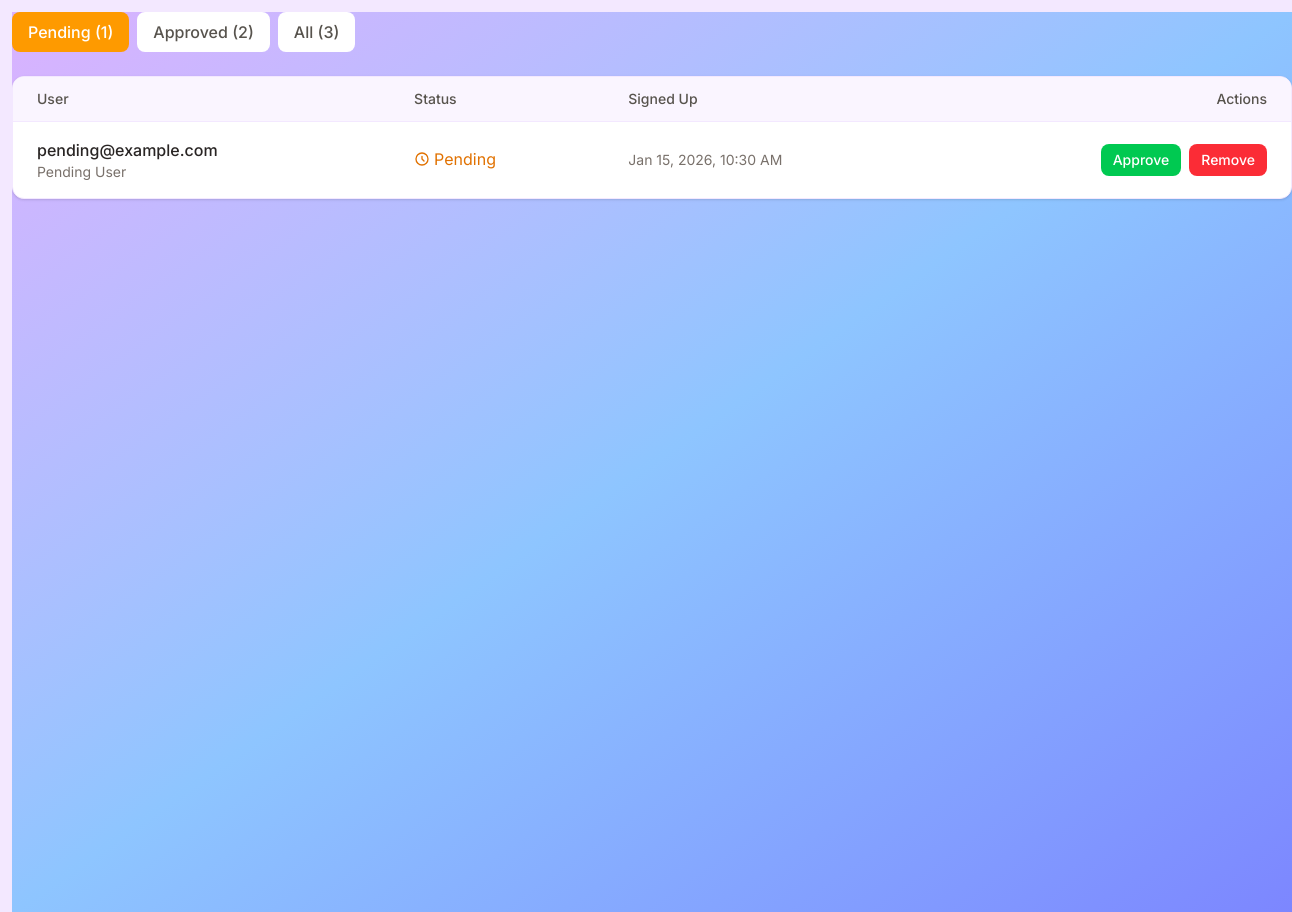
AdminUserList › rendering › renders admin badge for admin users
The width and height of the screenshot is (1292, 912).
// Switch to All tab to see admin
Click the button "All (3)": (317, 32) x1=278 y1=12 x2=355 y2=52
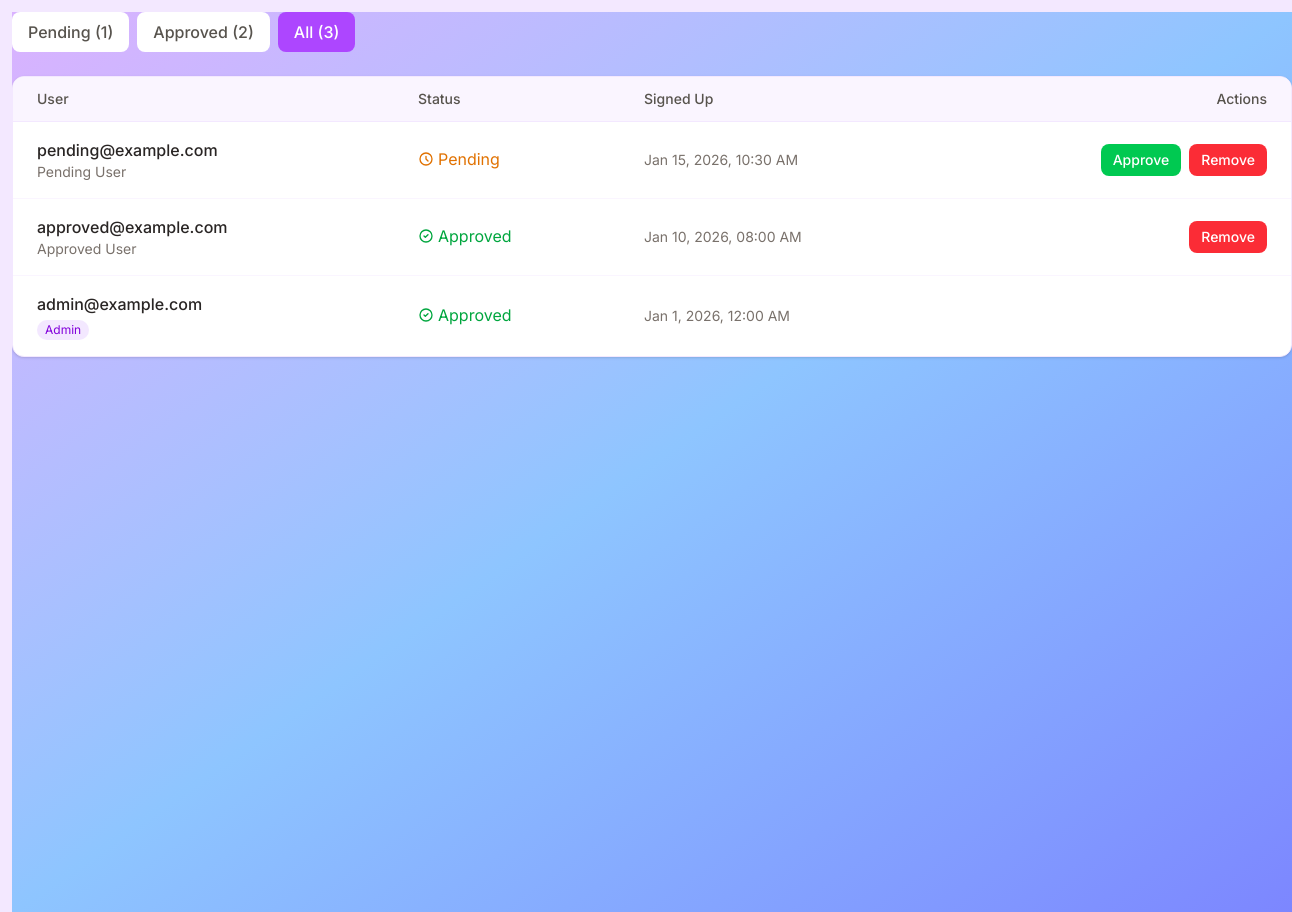
Expected: the text "Admin" is shown, x1=37 y1=320 x2=89 y2=340
